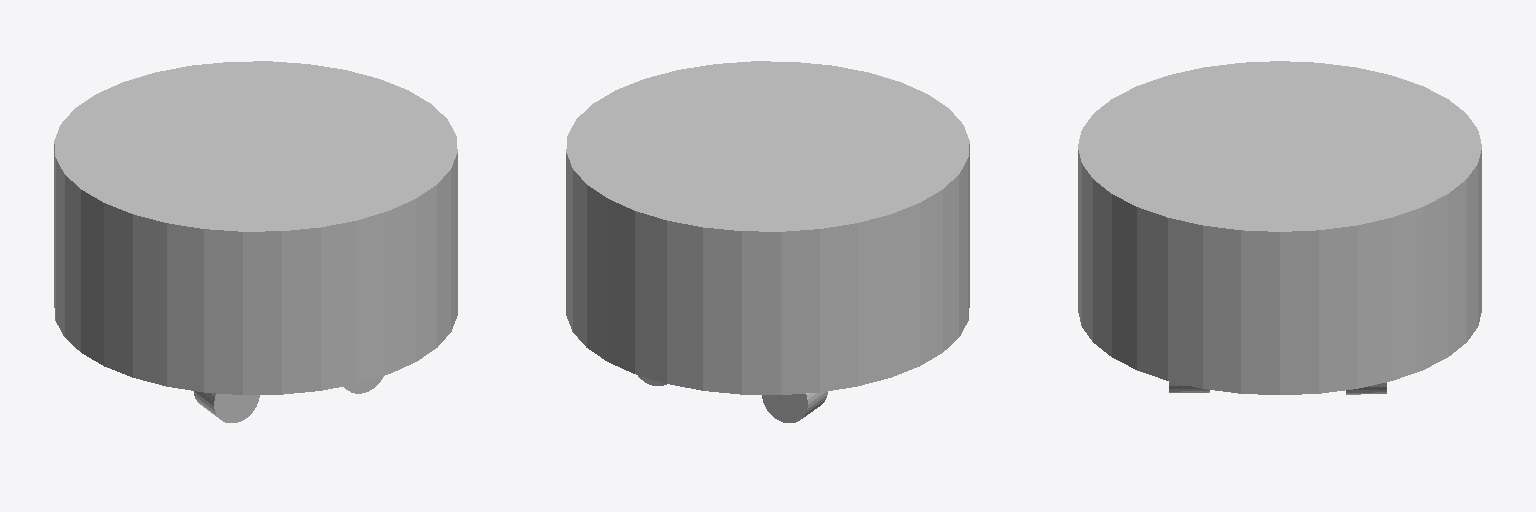
File: round sofa chair.obj
The picture shows the model from 3 angles: view 1: azimuth 30°, elevation 25°; view 2: azimuth 150°, elevation 25°; view 3: azimuth 270°, elevation 25°; orthographic projection.
Visible parts, largest first — view 1: Cylinder.002_Cylinder.000; view 2: Cylinder.002_Cylinder.000; view 3: Cylinder.002_Cylinder.000.
Boxes of the visible parts, x1,y1,x2,y2 form: Cylinder.002_Cylinder.000: [54, 61, 457, 422]; Cylinder.002_Cylinder.000: [566, 61, 969, 422]; Cylinder.002_Cylinder.000: [1078, 61, 1481, 394].
Size of the model in its own units: 5.47 by 3.27 by 5.47.